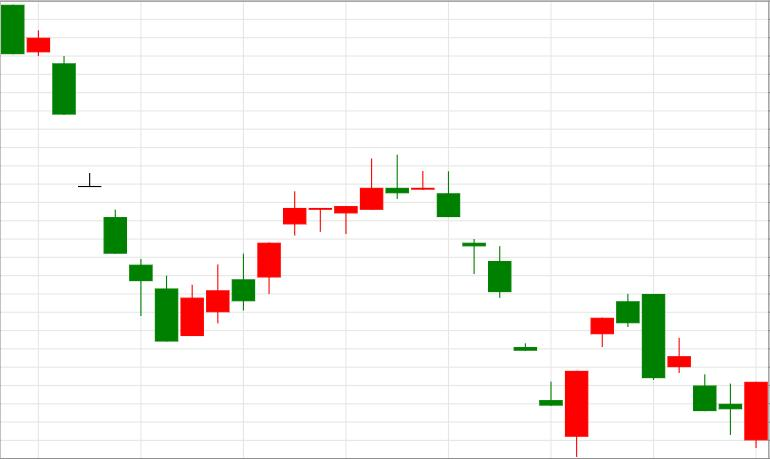bullish_engulfing_rise: (436, 171, 589, 458)
